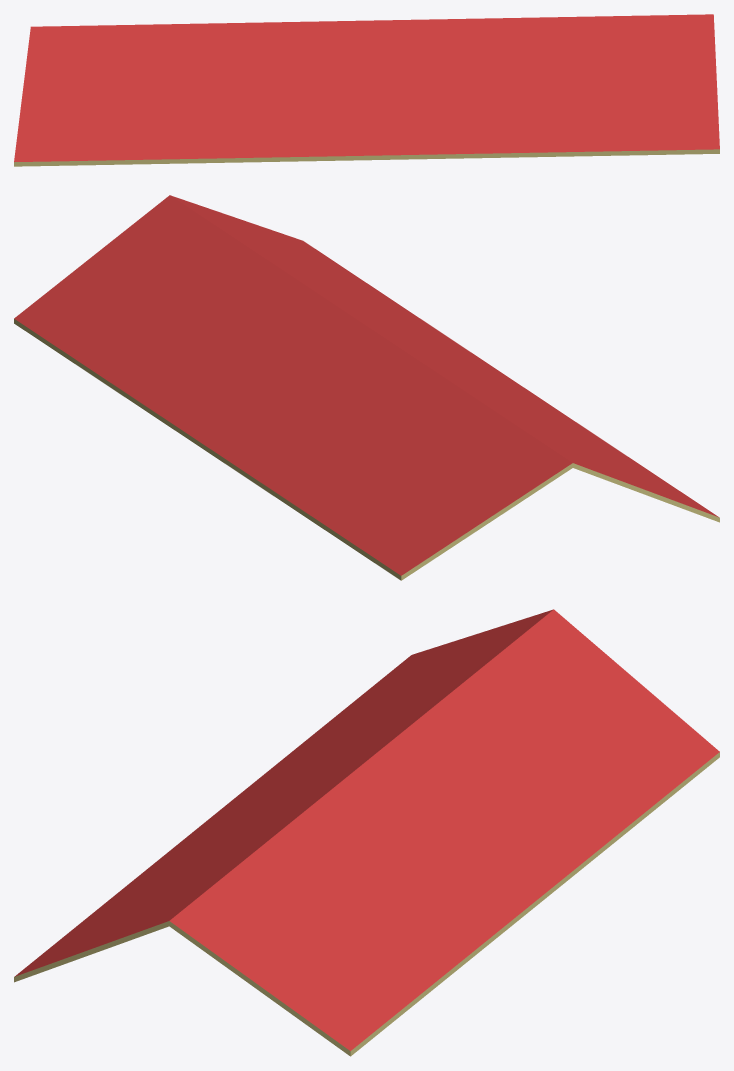
The picture shows the model from 3 angles, top to bottom: view 1: azimuth 30°, elevation 25°; view 2: azimuth 150°, elevation 25°; view 3: azimuth 270°, elevation 25°; orthographic projection. The views are drawn at different scales.
Bounding box in the file's own units: 15.6 × 11.74 × 1.76.
